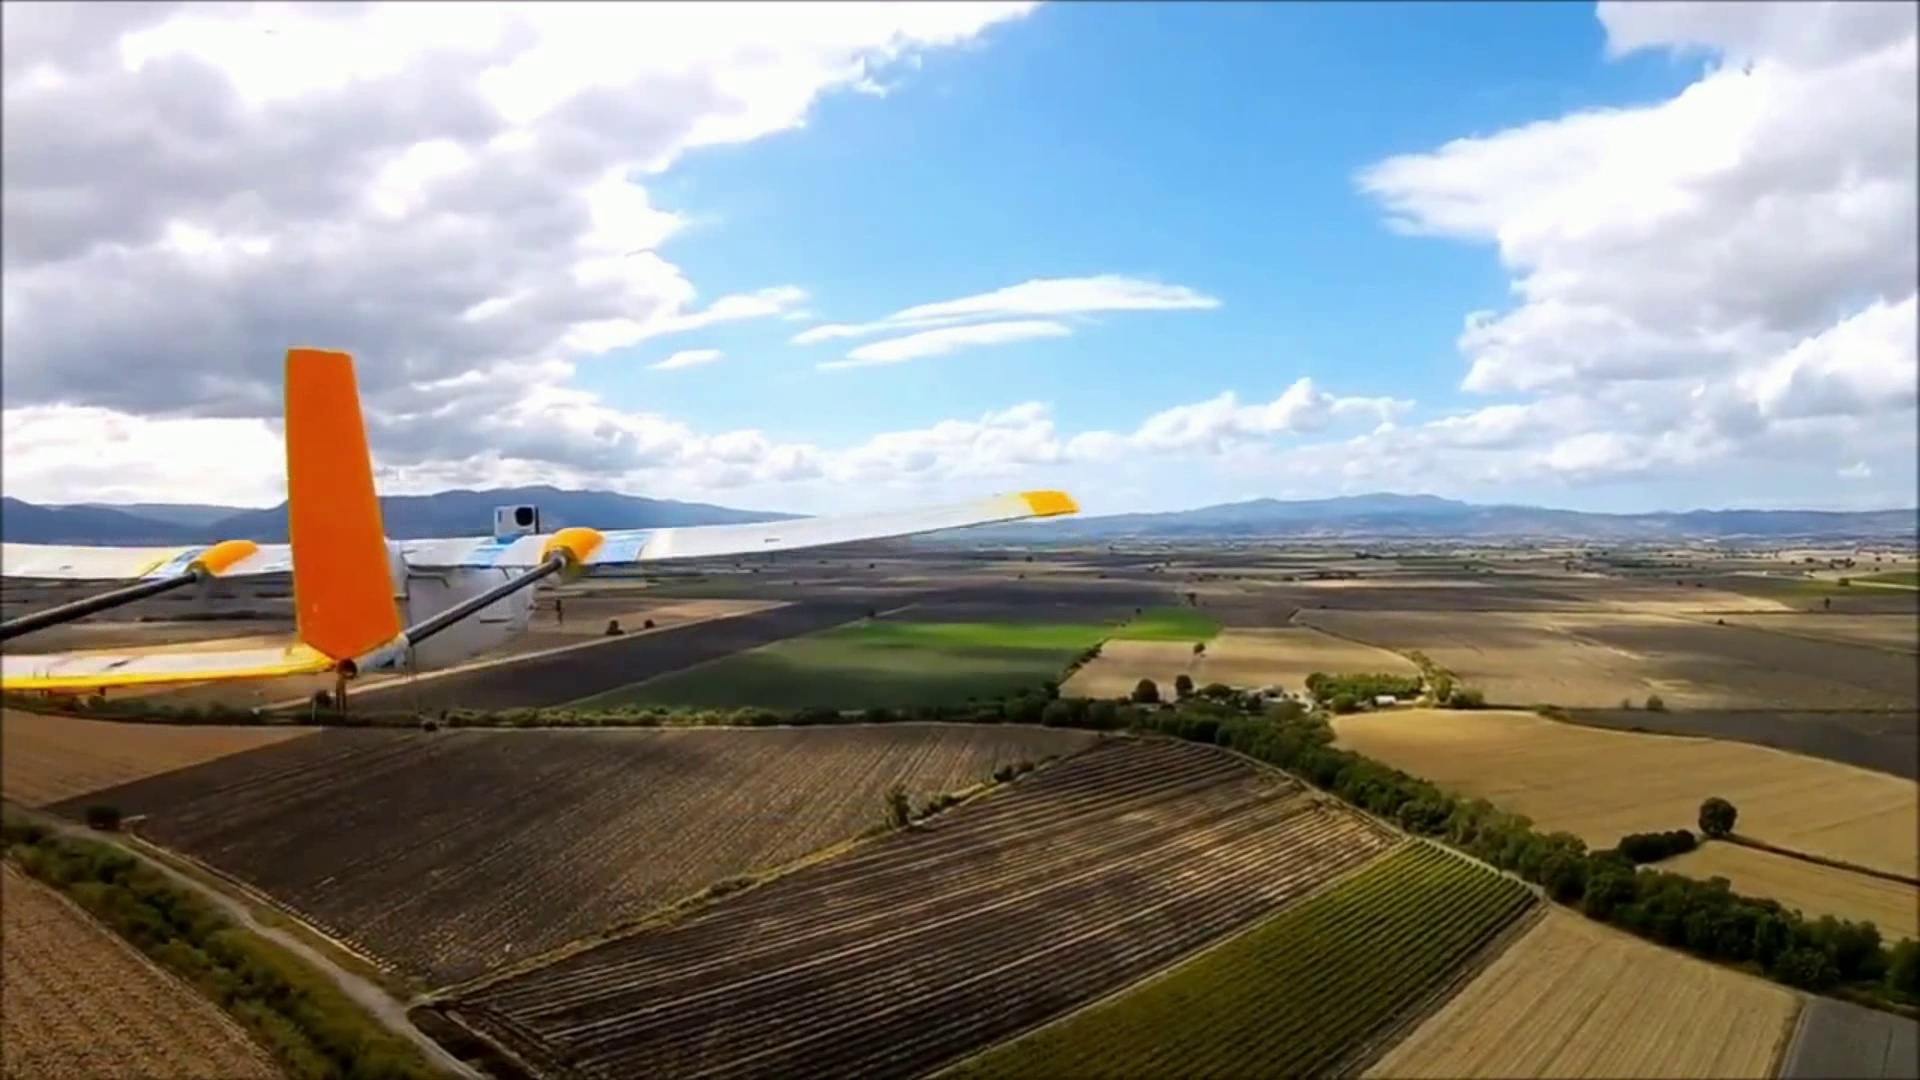airplane: (7, 349, 1075, 708)
